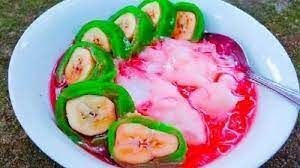pisang_ijo: (110, 112, 183, 166)
